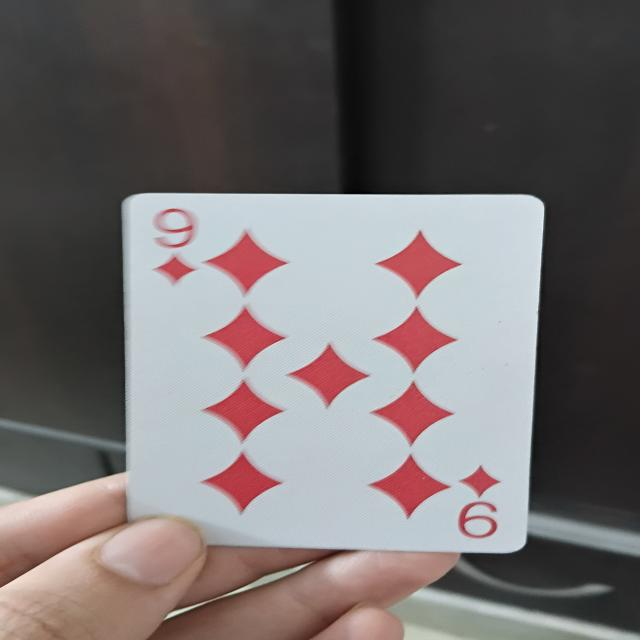9D: (122, 194, 530, 556)
